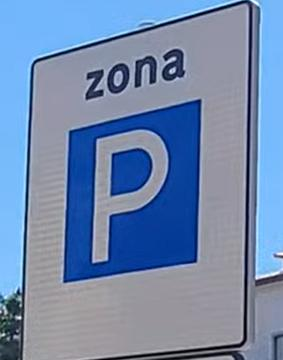zona de estacionamento autorizado: (13, 0, 267, 360)
